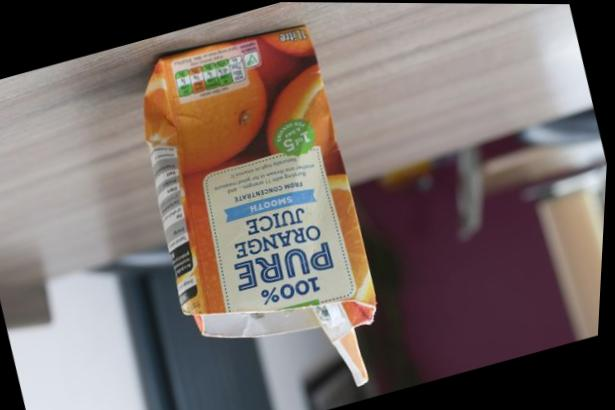cardboard: (127, 24, 399, 407)
